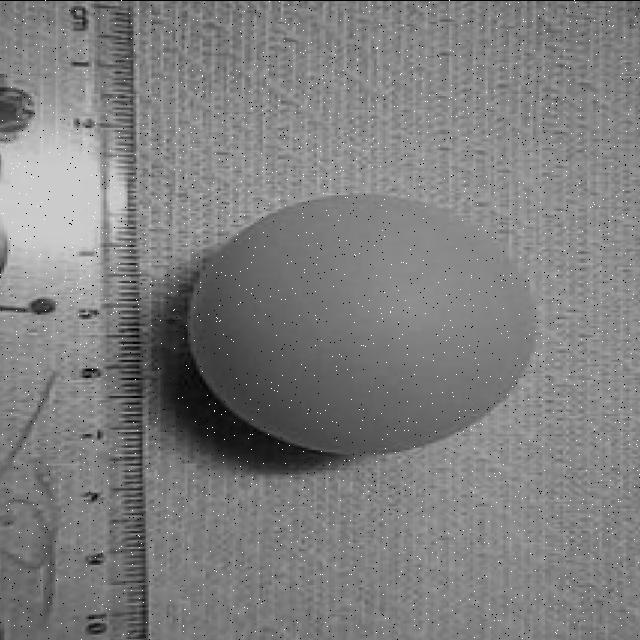ping-pong-ball: (182, 180, 546, 458)
